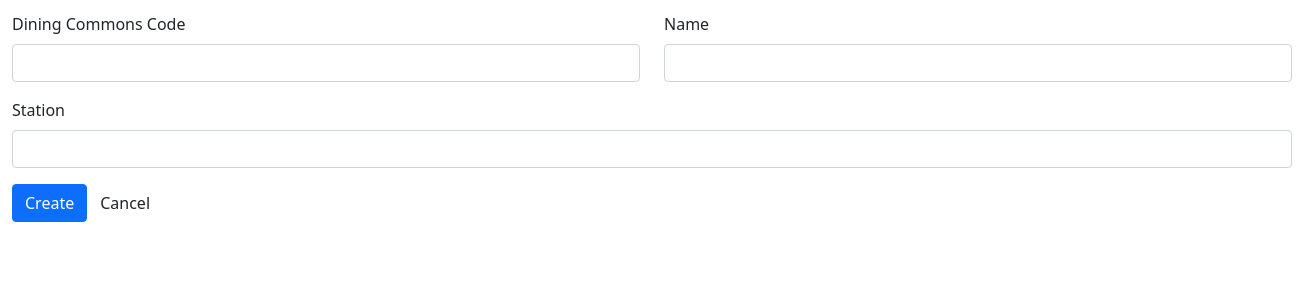
Test case: UCSBDiningCommonsMenuItemForm tests › Correct Error messsages on missing input
Click the button with test id "UCSBDiningCommonsMenuItemForm-submit" at [50, 203], box left=12, top=184, right=87, bottom=222
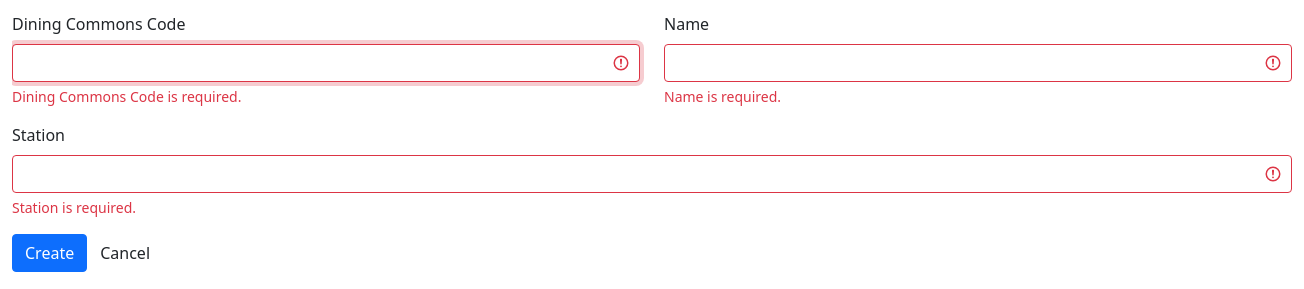
Check: the text "Dining Commons Code is required." is shown, box left=12, top=87, right=241, bottom=106
Check: the text "Name is required." is shown, box left=664, top=87, right=781, bottom=106
Check: the text "Station is required." is shown, box left=12, top=198, right=136, bottom=217
